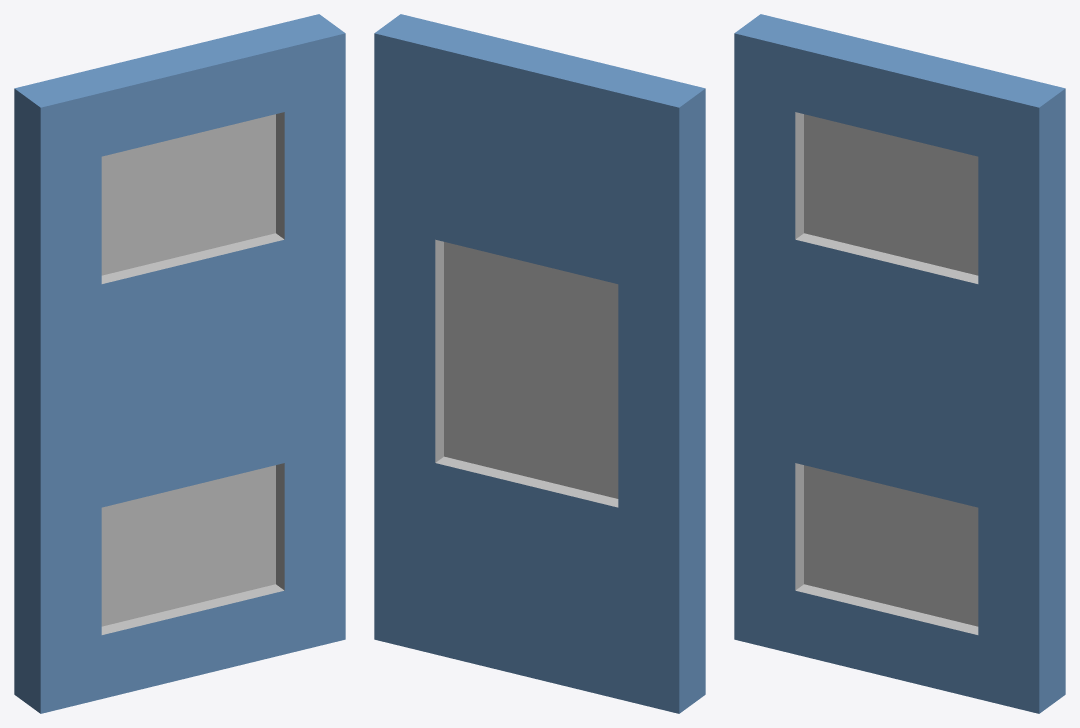
Rendered from LPDoor1.fbx.
3 renders of one model, left to right at view 1: azimuth 30°, elevation 25°; view 2: azimuth 150°, elevation 25°; view 3: azimuth 330°, elevation 25°, orthographic.
Parts seen in each view (by area): view 1: Cube; view 2: Cube; view 3: Cube.
Part boxes in pixels (x1,y1,x2,y2): Cube: [14, 14, 345, 713]; Cube: [374, 14, 705, 713]; Cube: [734, 14, 1065, 713].
Bounding box in the file's own units: 100 × 15 × 190.
